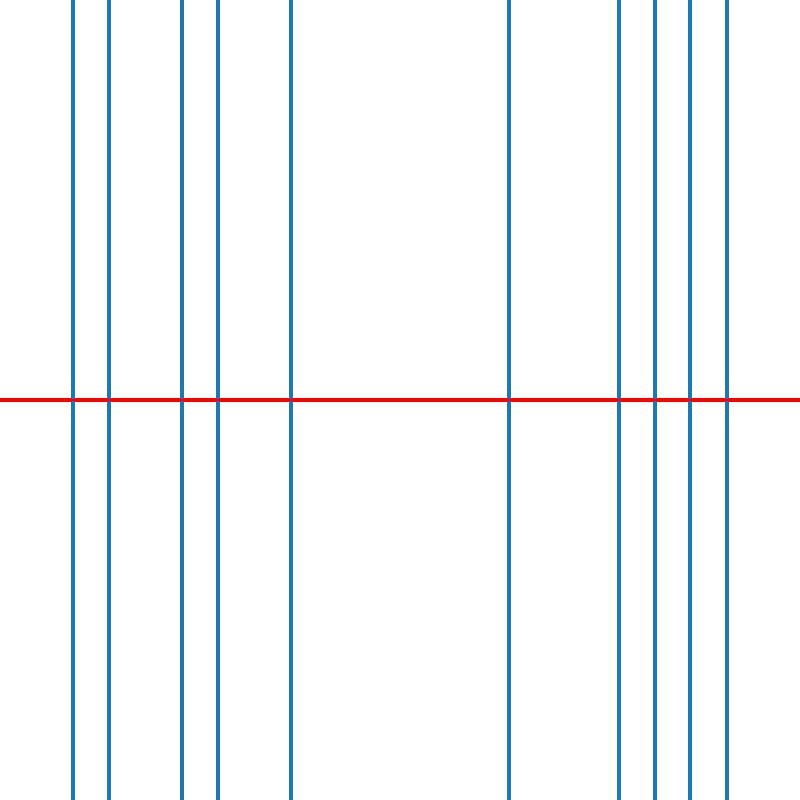root: (650, 396, 658, 404), (214, 396, 221, 404), (105, 396, 112, 404), (723, 396, 730, 404), (69, 396, 76, 404), (505, 396, 512, 404), (287, 396, 294, 404), (687, 396, 694, 404), (178, 396, 185, 404), (614, 396, 621, 404)
